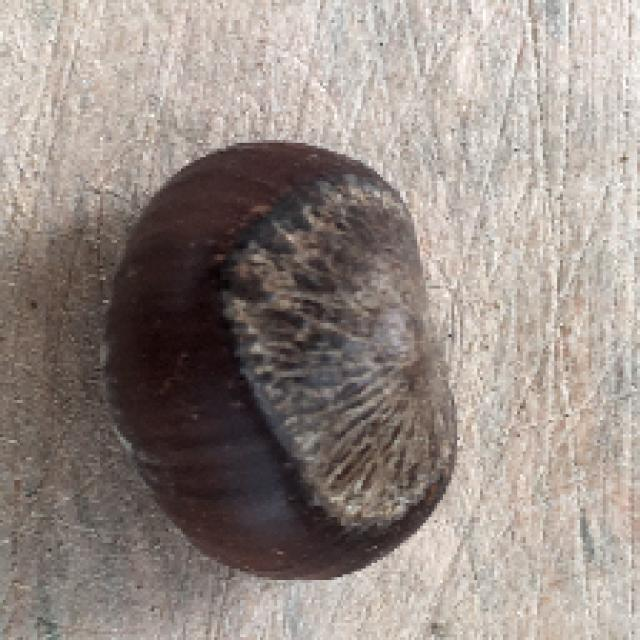damagedHazelnut: (90, 130, 468, 592)
